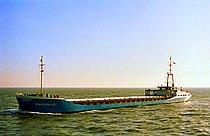Ship: (14, 60, 193, 115)
